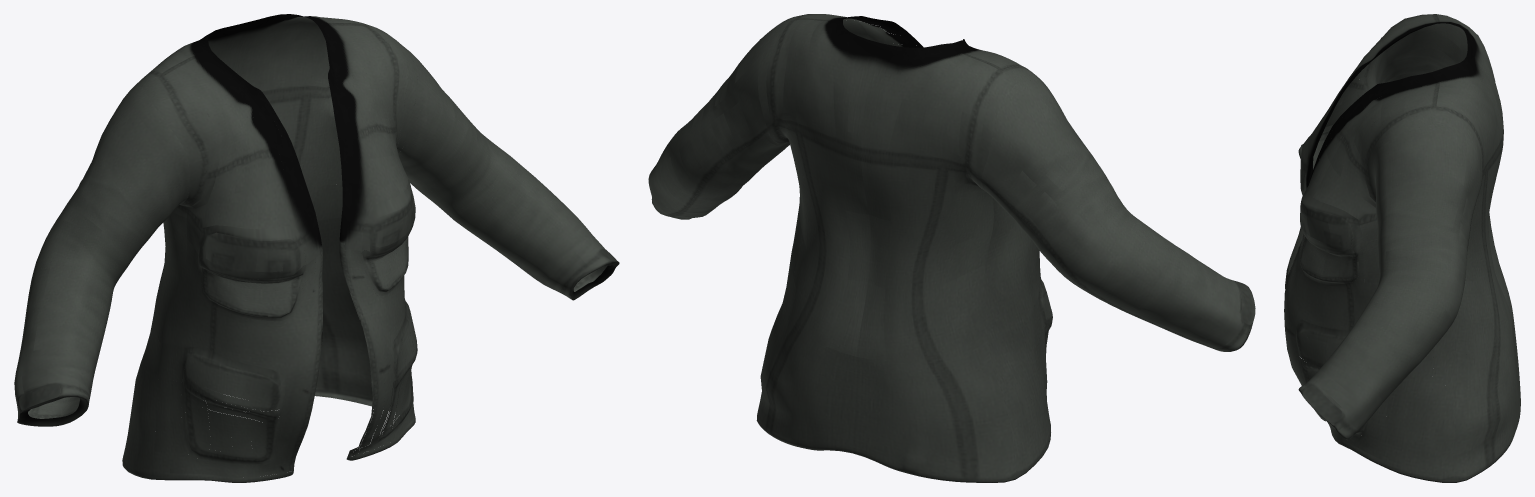
The model's file is ONFIT_Outer_Female_v5.glb.
3 renders of one model, left to right at view 1: azimuth 30°, elevation 25°; view 2: azimuth 150°, elevation 25°; view 3: azimuth 270°, elevation 25°, orthographic. The views are drawn at different scales.
Parts seen in each view (by area): view 1: ONFIT_Outer; view 2: ONFIT_Outer; view 3: ONFIT_Outer.
Boxes of the visible parts, <box> form: ONFIT_Outer: <box>14,14,619,482</box>; ONFIT_Outer: <box>648,14,1255,482</box>; ONFIT_Outer: <box>1284,14,1520,482</box>.
Size of the model in its own units: 0.9384 by 0.6201 by 0.3495.
Materials: 1 (1 with a texture image).
